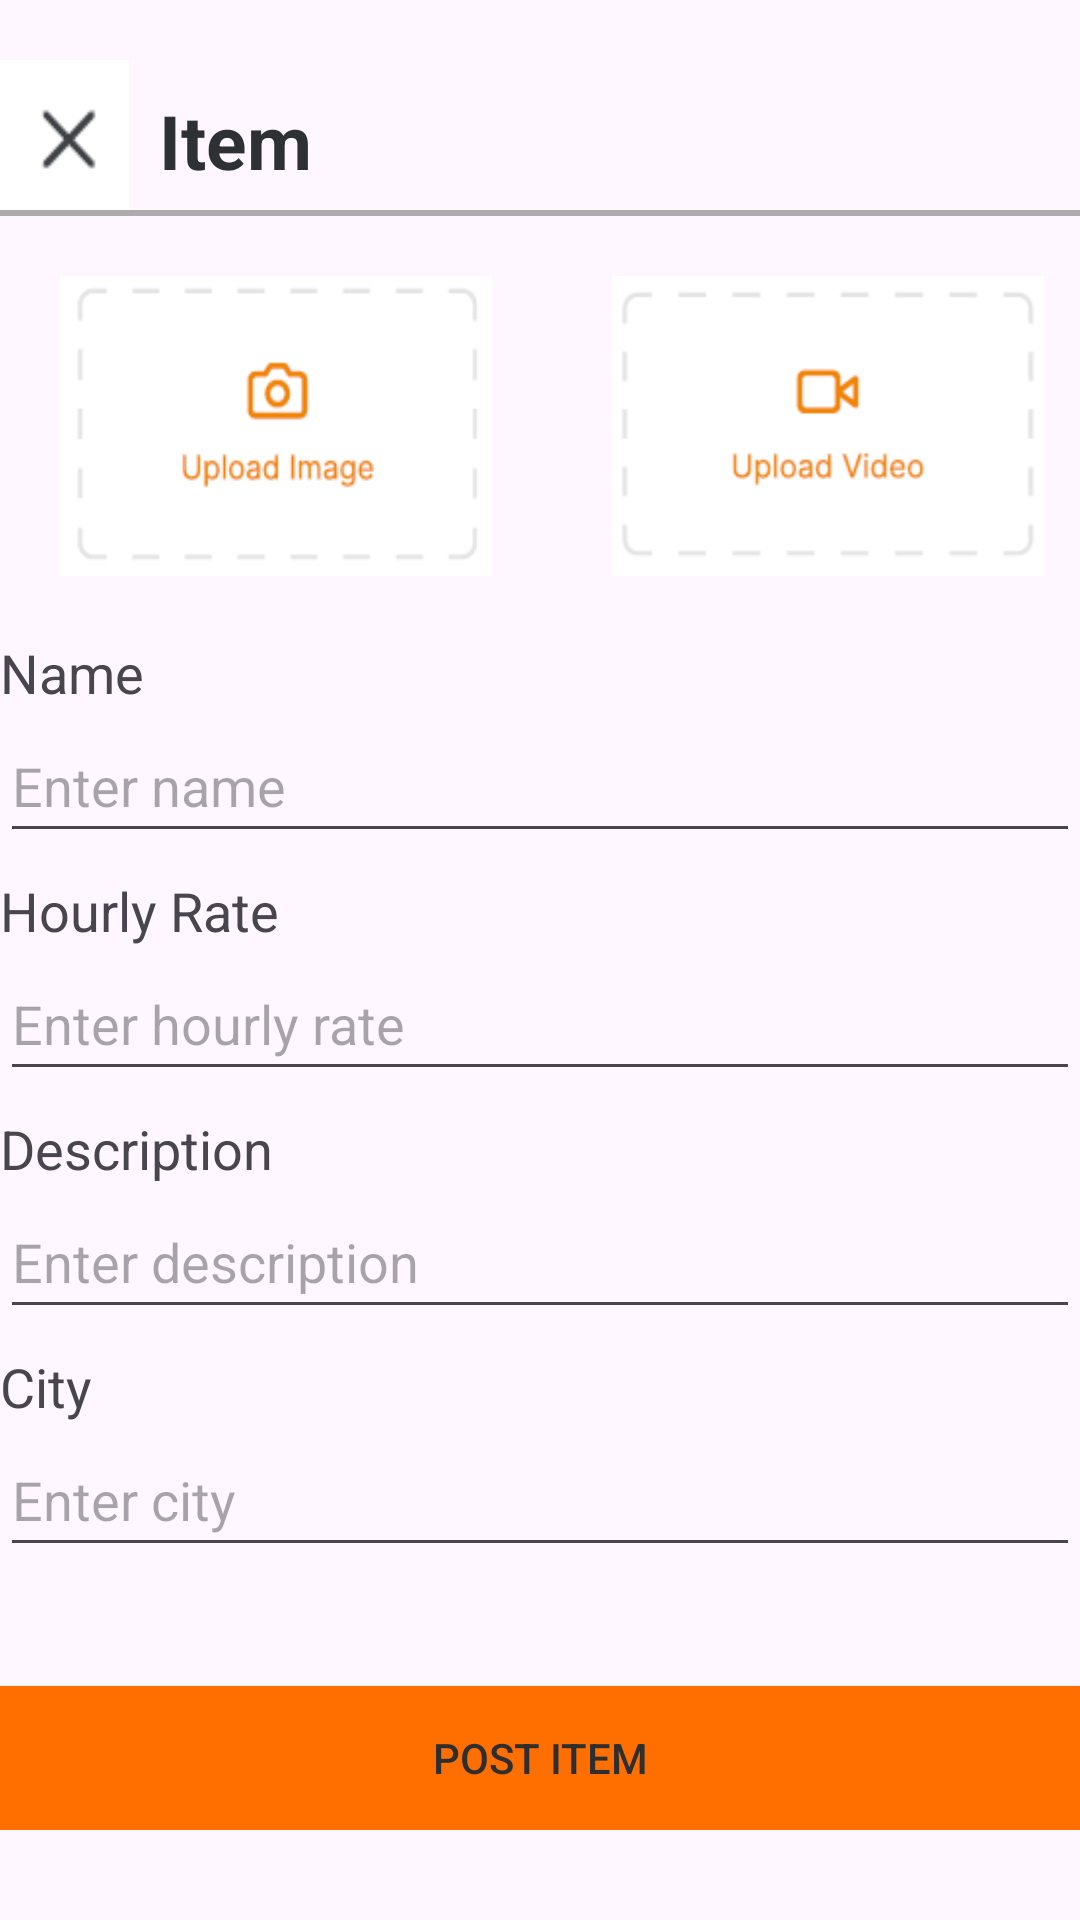

Named icons in this screenshot (1080px×1920px) and their bounding boxes, Rect(x1, y1, x2, y2):
back: Rect(42, 110, 96, 169)
